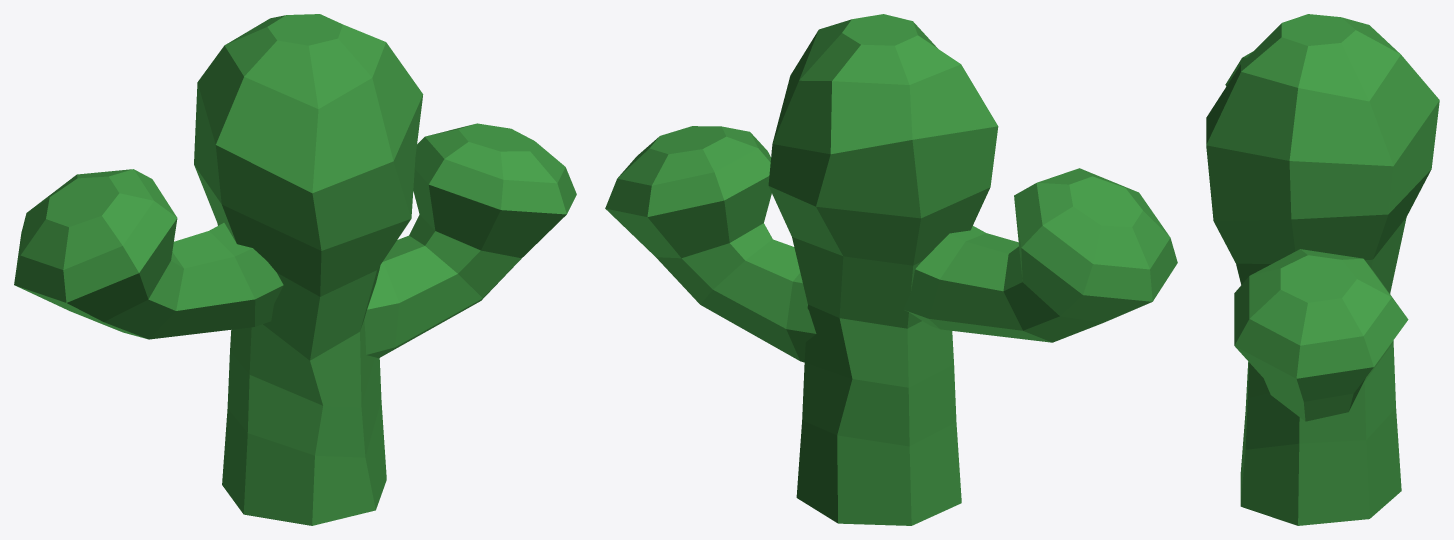
File: Cactus_3_Light_Green.fbx
The picture shows the model from 3 angles, left to right: view 1: azimuth 30°, elevation 25°; view 2: azimuth 150°, elevation 25°; view 3: azimuth 270°, elevation 25°; orthographic projection.
Visible parts, largest first — view 1: Cactus_3_Light_Green; view 2: Cactus_3_Light_Green; view 3: Cactus_3_Light_Green.
Part boxes in pixels (x1,y1,x2,y2): Cactus_3_Light_Green: [14, 14, 576, 525]; Cactus_3_Light_Green: [605, 14, 1177, 525]; Cactus_3_Light_Green: [1206, 14, 1439, 525].
Bounding box in the file's own units: 222 × 180 × 82.67.
